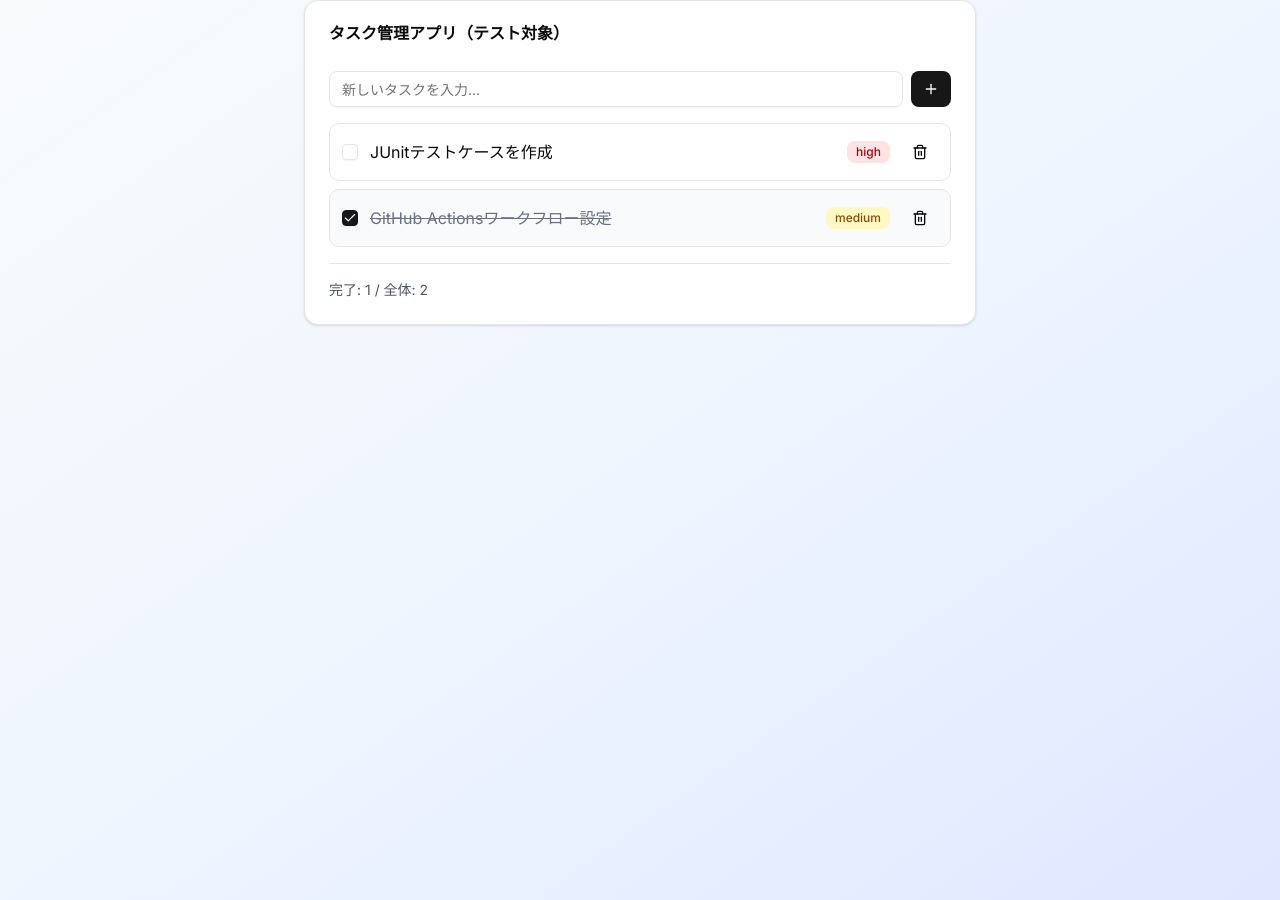
Test: TaskManager Component › adds a new task when form is submitted
Type "New Test Task" into the field with test id "task-input" at (616, 89), box [329,71,903,107]
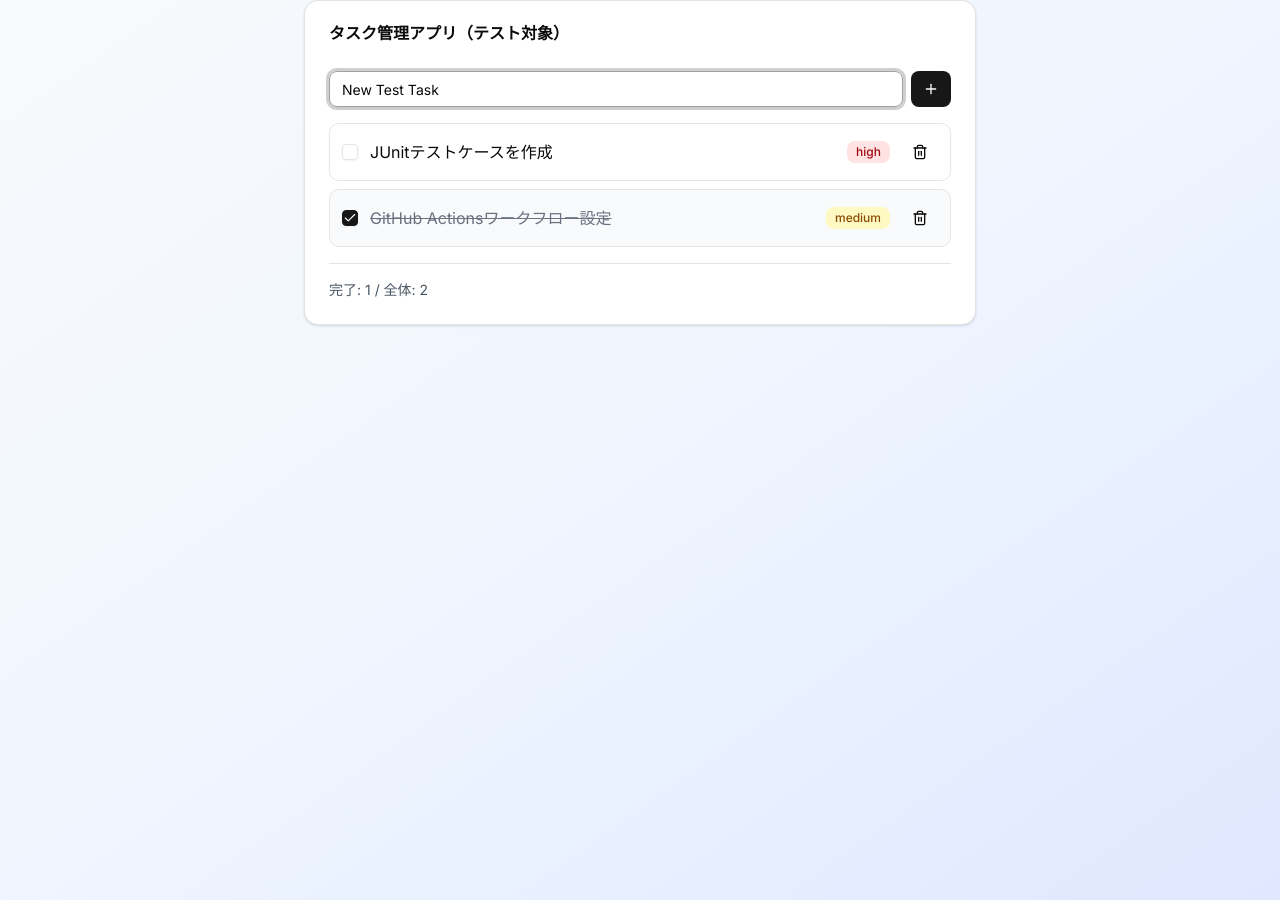
Click the button with test id "add-task-button" at (931, 89), box [911,71,951,107]
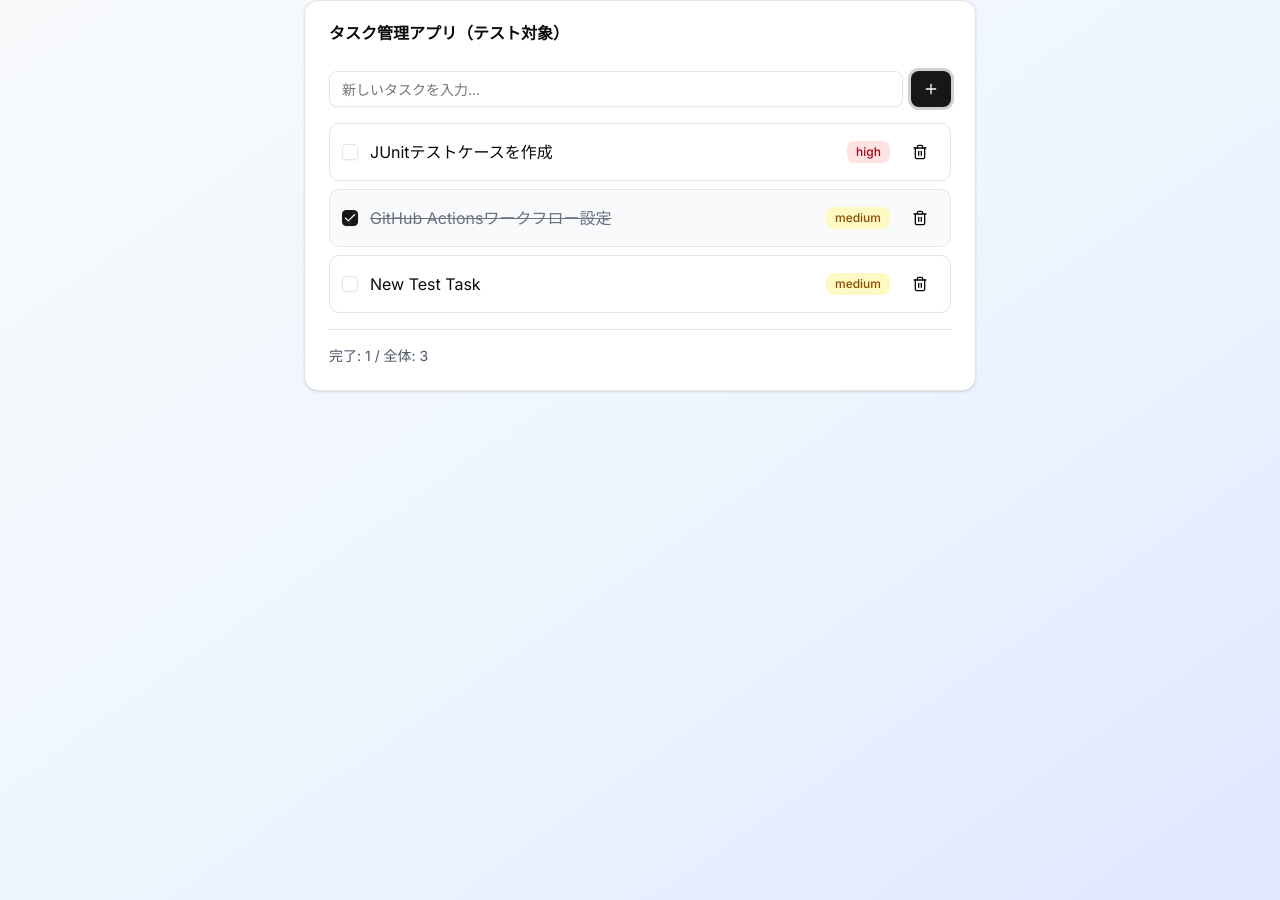
Expected: the text "New Test Task" is shown, [370,274,481,294]
Expected: the field with test id "task-input" is empty, [329,71,903,107]
